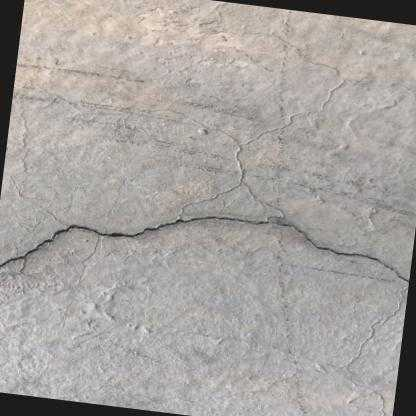crack: (0, 212, 409, 285)
